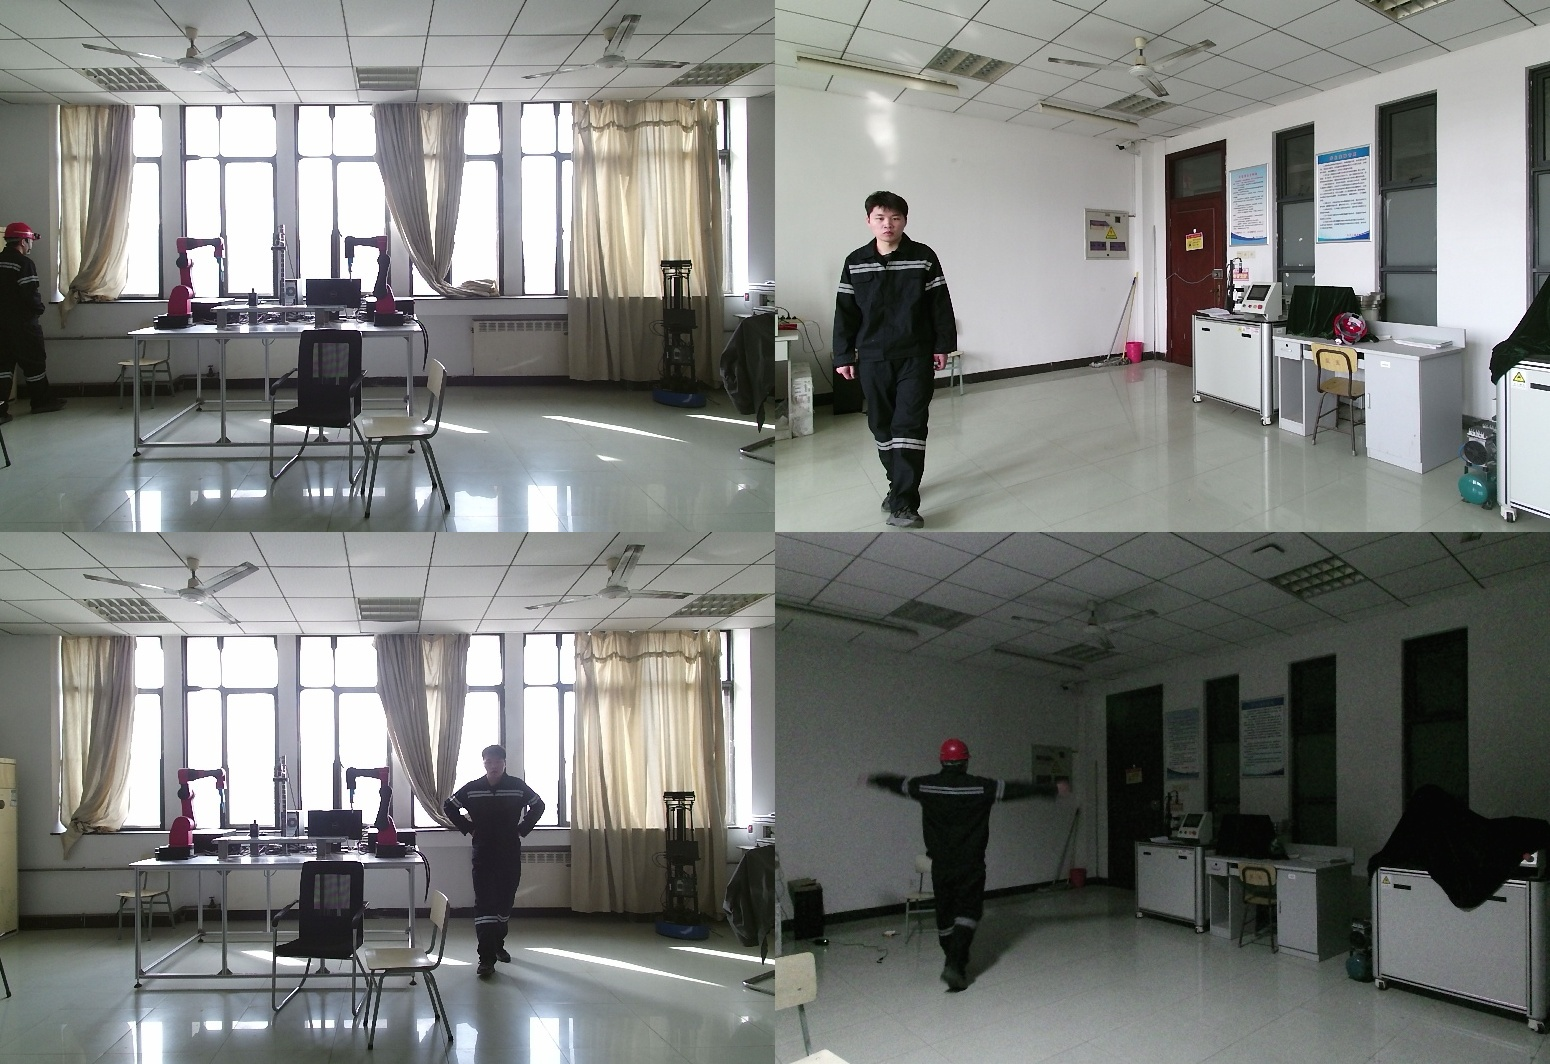person: (854, 739, 1072, 995), (830, 188, 964, 532), (442, 745, 547, 982), (1, 224, 64, 416)
